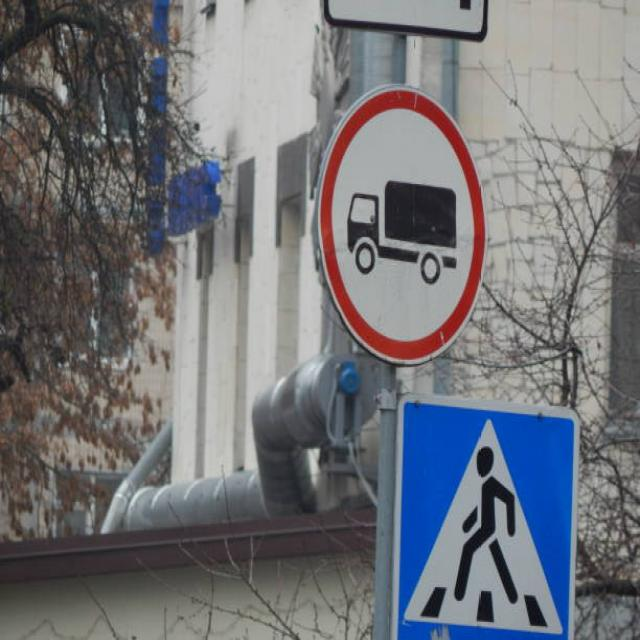crosswalk: (383, 381, 588, 640)
do_not_enter: (313, 70, 495, 375)
